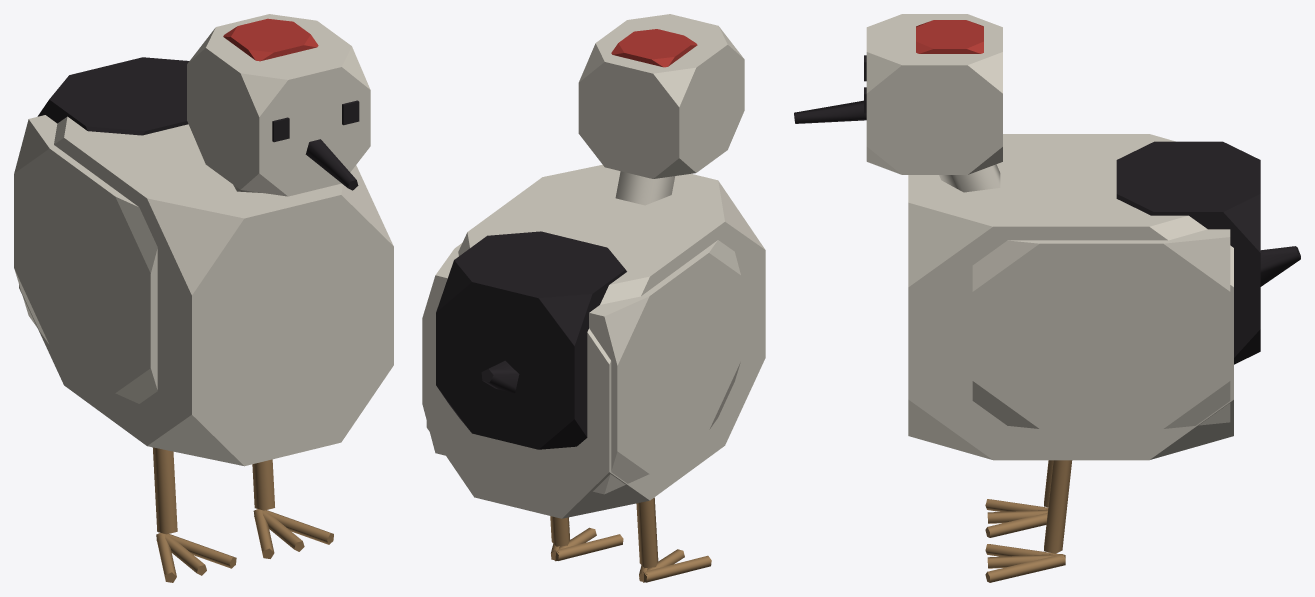
File: original-red-crane.glb
3 views of the same model, side by side, from view 1: azimuth 30°, elevation 25°; view 2: azimuth 150°, elevation 25°; view 3: azimuth 270°, elevation 25° (orthographic). The views are drawn at different scales.
Parts seen in each view (by area): view 1: red-crane; view 2: red-crane; view 3: red-crane.
Part boxes in pixels (x1,y1,x2,y2): red-crane: (14,14,393,582); red-crane: (422,14,765,582); red-crane: (794,14,1300,582).
Size of the model in its own units: 0.62 by 1.49 by 1.34.
